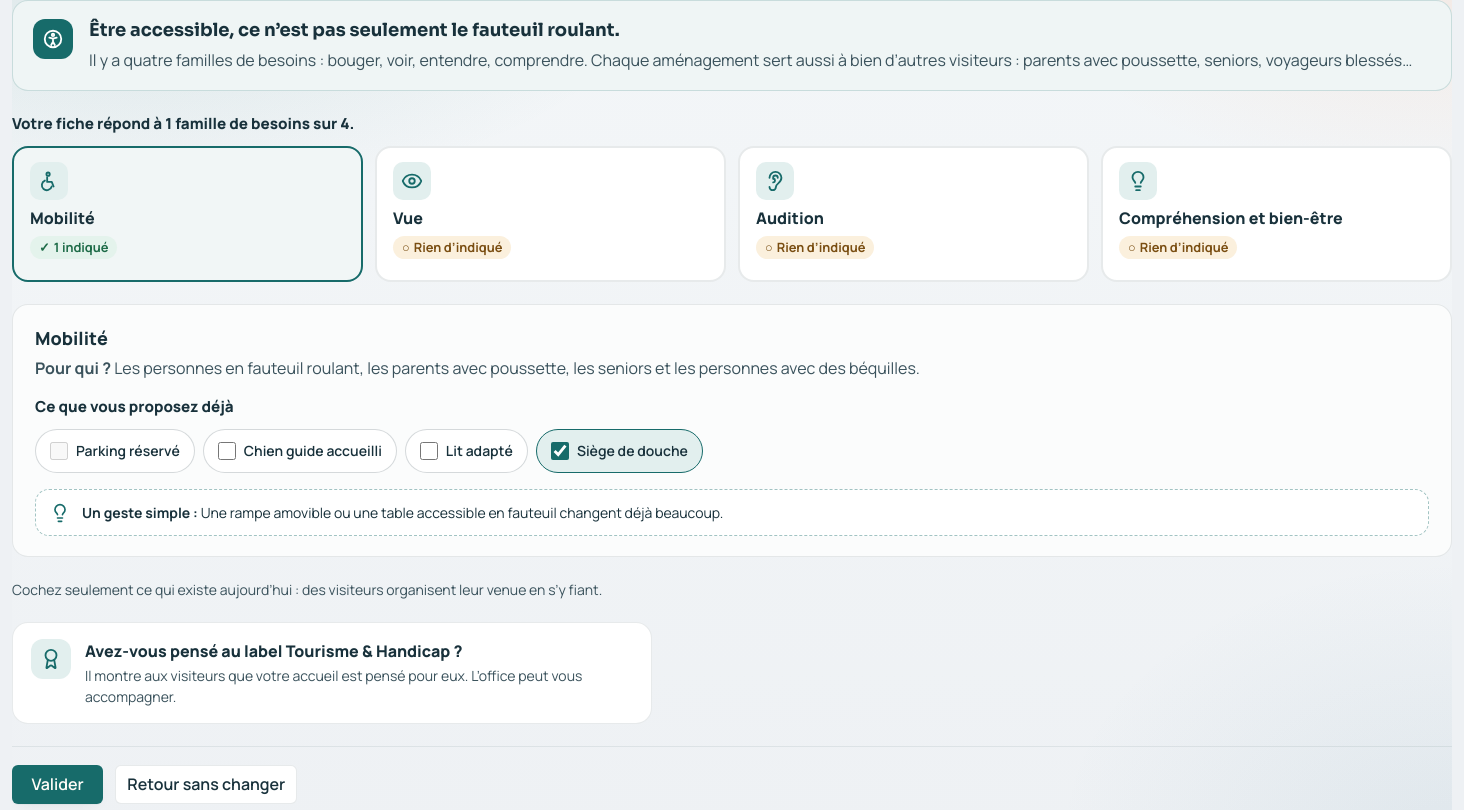
it: un aménagement retiré déjà choisi reste conservable et supprimable, sans pouvoir être ajouté à nouveau
The image size is (1464, 810).
Later steps or results of the test are not shown.
Expected: the checkbox labelled "Parking réservé" is disabled, [50,442,68,460]
Expected: the checkbox labelled "Siège de douche" is checked, [551,442,569,460]
Click the button "Valider" at (58, 784), box [12,765,103,804]
Click the checkbox labelled "Siège de douche" at (560, 451), box [551,442,569,460]
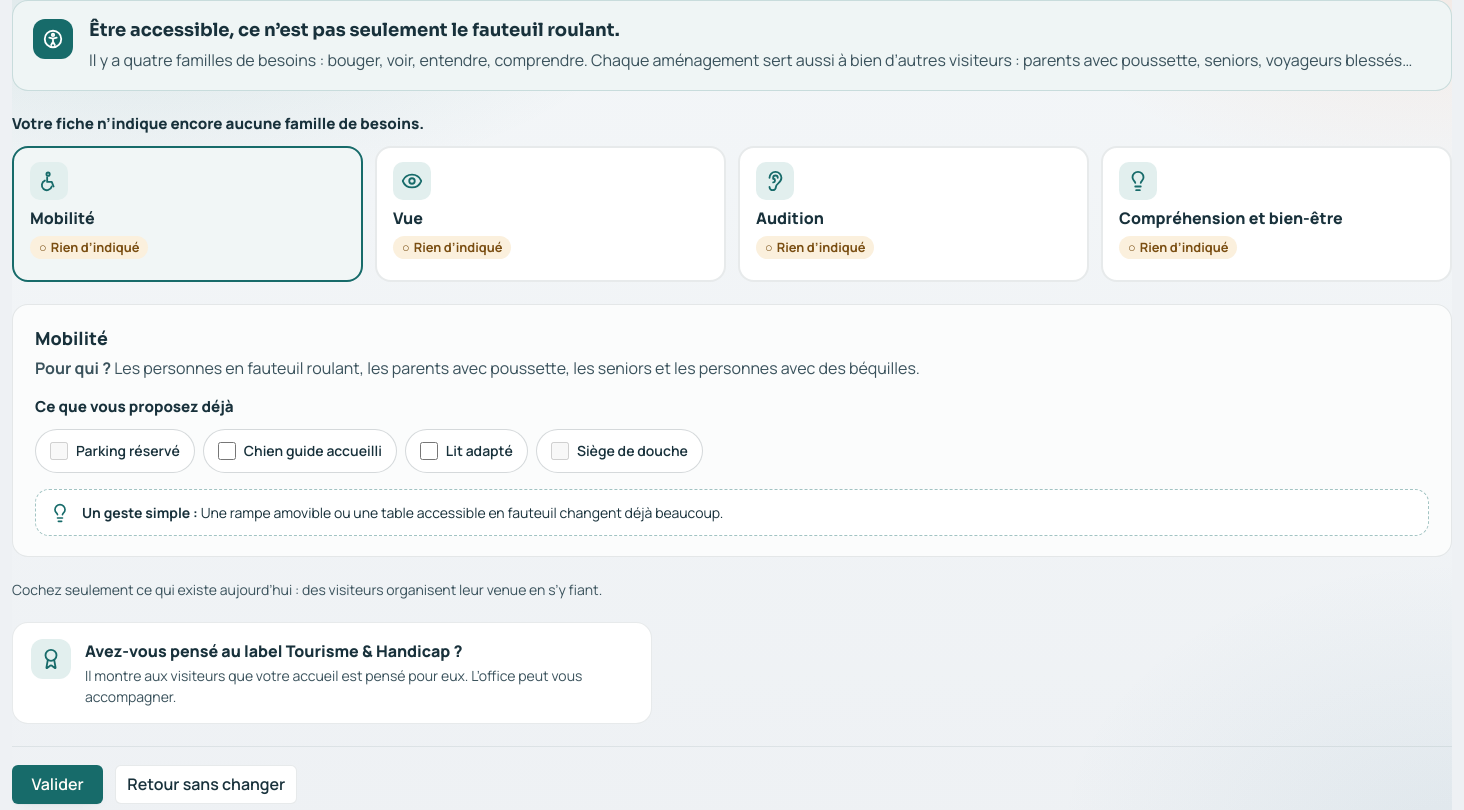
Expected: the checkbox labelled "Siège de douche" is not checked
Expected: the checkbox labelled "Siège de douche" is disabled
Click the checkbox labelled "Siège de douche" at (560, 451), box [551,442,569,460]
Expected: the checkbox labelled "Siège de douche" is not checked, [551,442,569,460]
